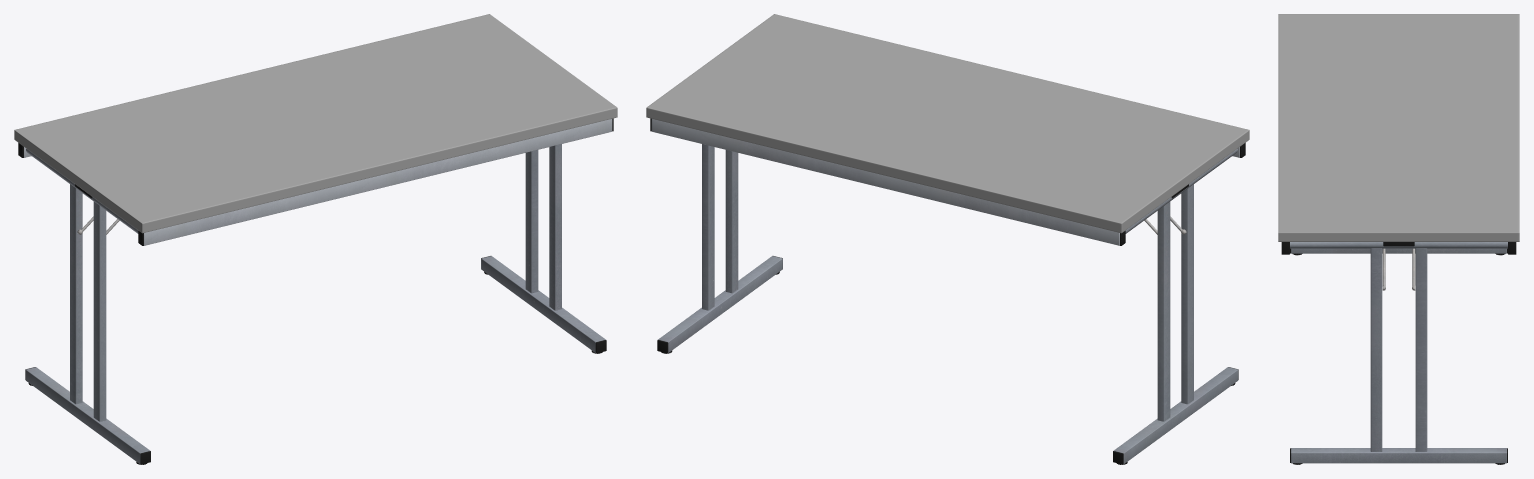
File: table.gltf
3 renders of one model, left to right at view 1: azimuth 30°, elevation 25°; view 2: azimuth 150°, elevation 25°; view 3: azimuth 270°, elevation 25°, orthographic. The views are drawn at different scales.
Parts seen in each view (by area): view 1: Folding_Table_7kcg; view 2: Folding_Table_7kcg; view 3: Folding_Table_7kcg.
Part boxes in pixels (left/top/right/bottom): Folding_Table_7kcg: left=14, top=14, right=617, bottom=464; Folding_Table_7kcg: left=646, top=14, right=1249, bottom=464; Folding_Table_7kcg: left=1278, top=14, right=1519, bottom=464.
Bounding box in the file's own units: 1.5 × 0.7501 × 0.7.
1 material, 1 textured.
